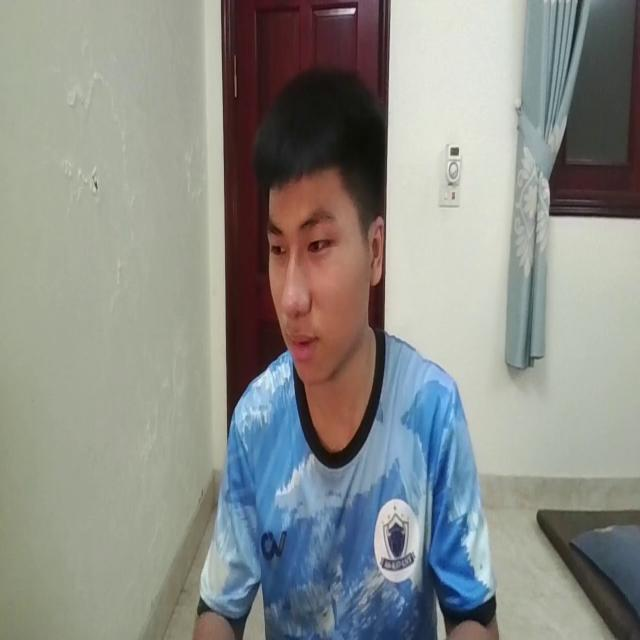student: (189, 73, 499, 640)
